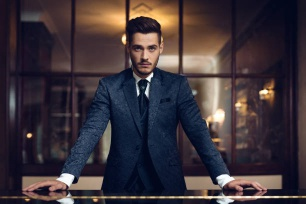male: (123, 23, 164, 79)
